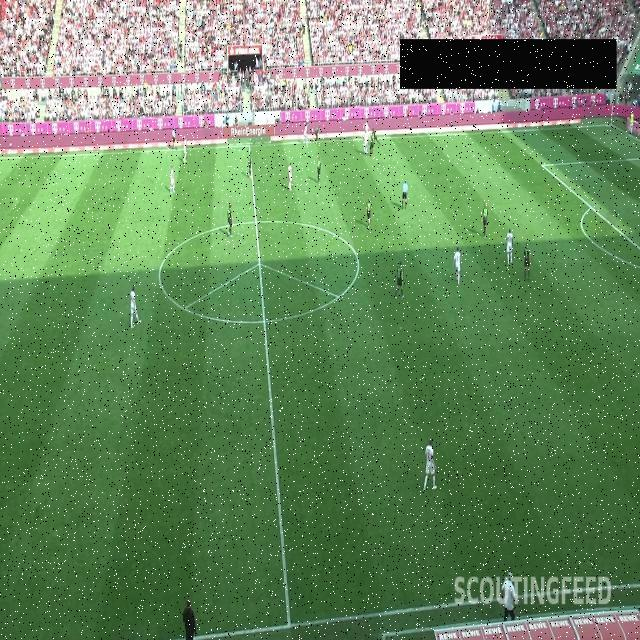Ball: (332, 138, 335, 144)
Corner: (610, 102, 613, 126)
Referee: (402, 178, 408, 210), (172, 126, 178, 150)
TEAM 1: (422, 438, 438, 492), (130, 285, 142, 329), (453, 246, 463, 286), (506, 227, 514, 265), (182, 134, 188, 164), (170, 165, 176, 194), (287, 162, 293, 190), (303, 121, 309, 145), (364, 122, 370, 144), (363, 130, 368, 156)
TEAM 2: (394, 260, 404, 300), (523, 242, 531, 280), (226, 204, 234, 238), (482, 200, 488, 238), (366, 197, 372, 229), (370, 128, 380, 146), (316, 156, 322, 183), (369, 130, 375, 156), (314, 125, 320, 144), (248, 150, 252, 178)
